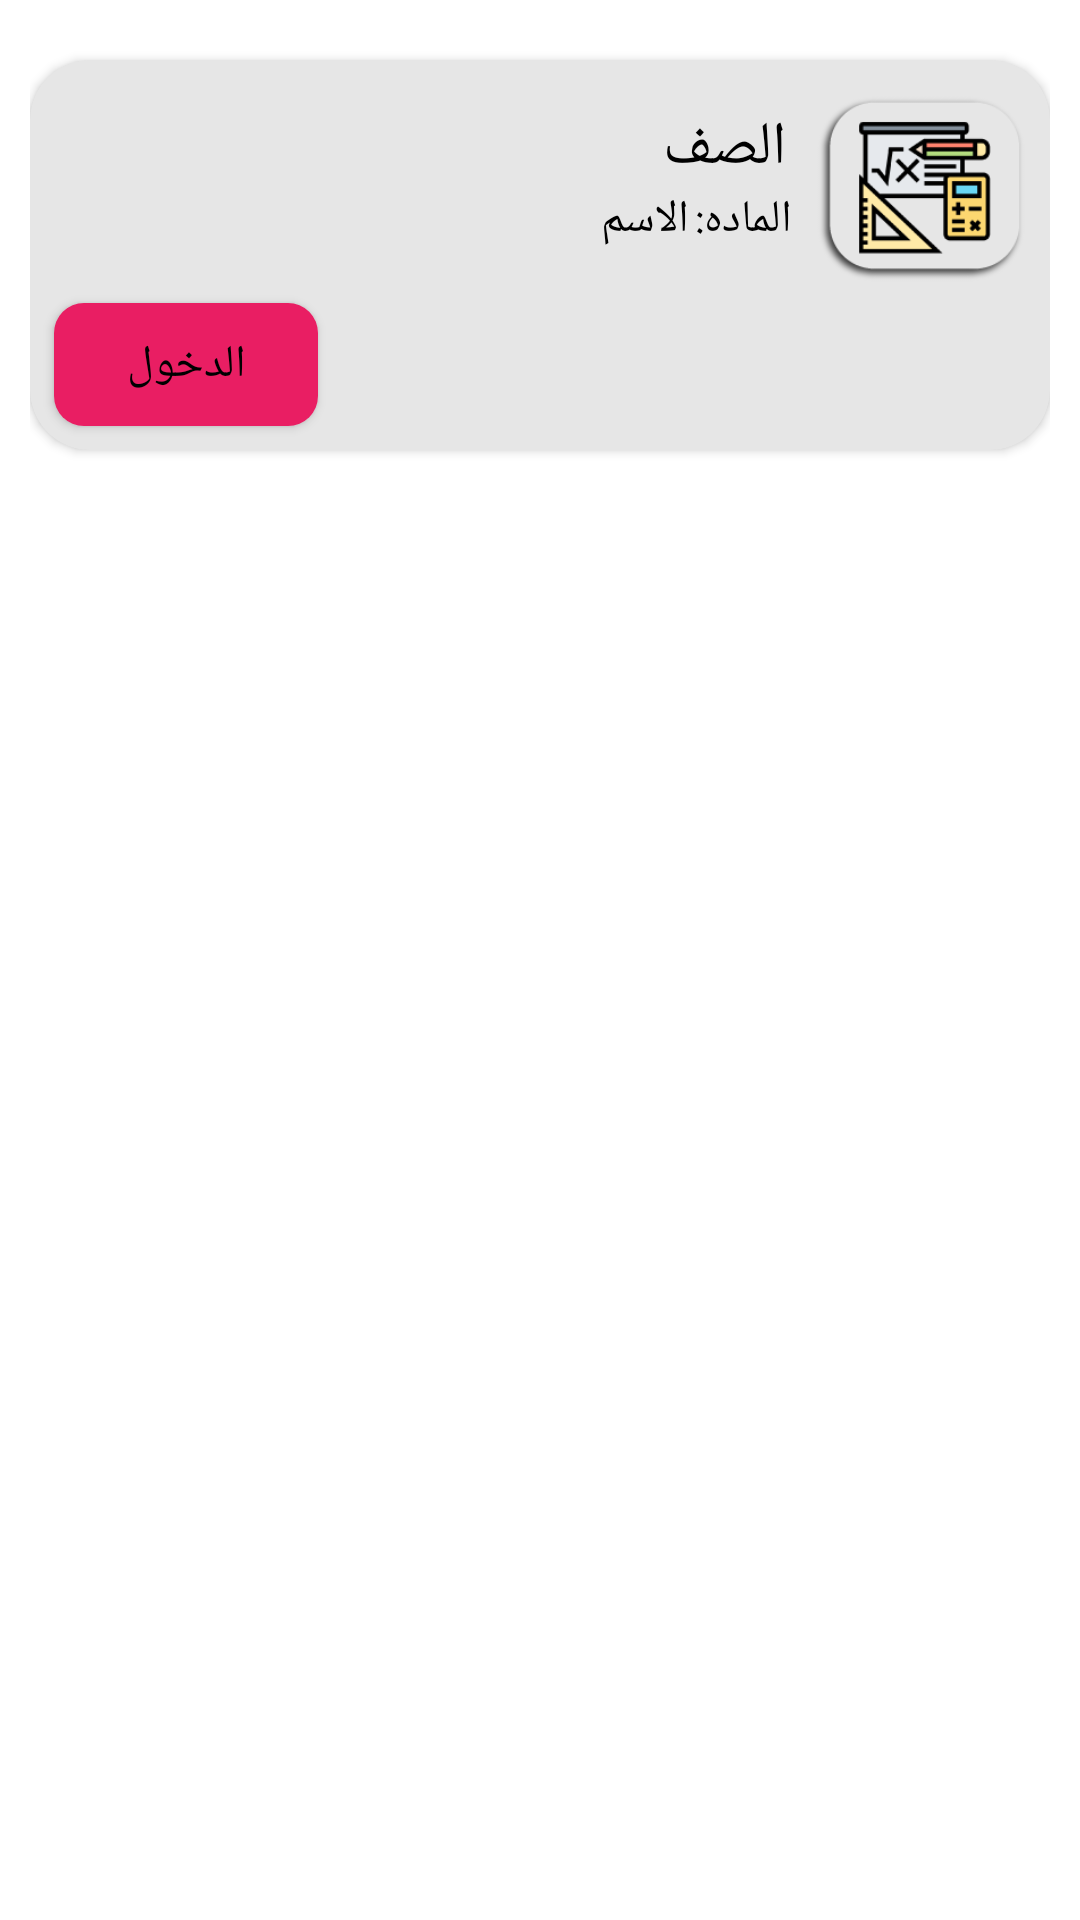

Named icons in this screenshot (1080*1920) and their centers, (x,y):
mathematics: (921,190)
